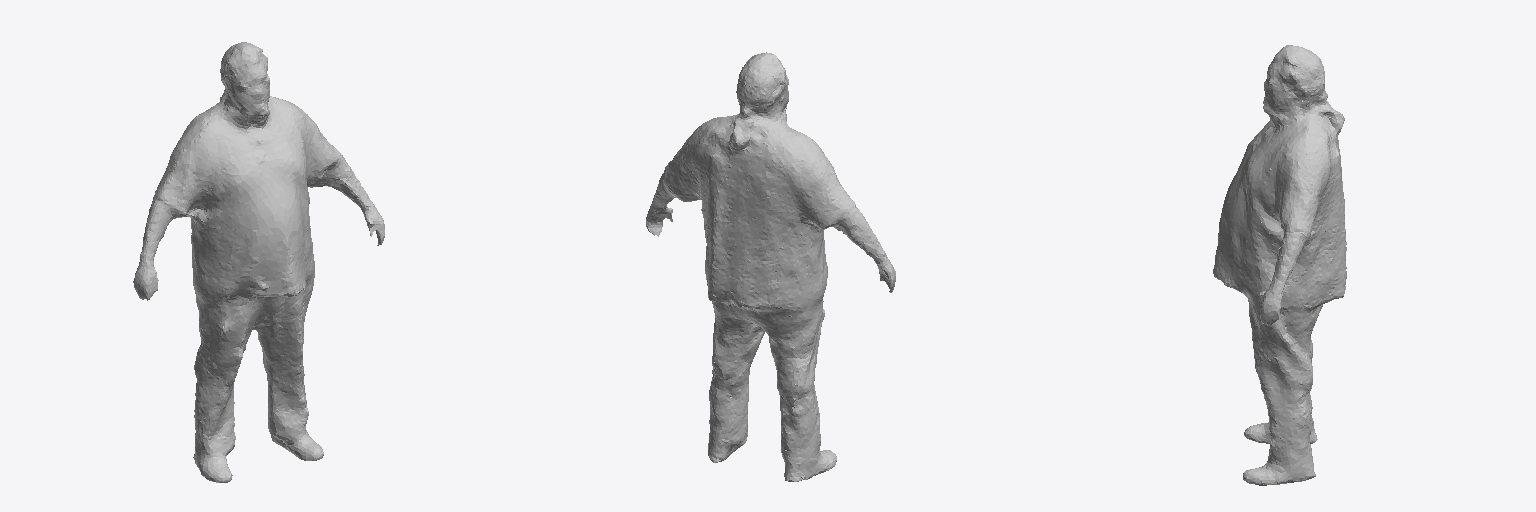
File: Chouchen.obj
3 views of the same model, side by side, from view 1: azimuth 30°, elevation 25°; view 2: azimuth 150°, elevation 25°; view 3: azimuth 270°, elevation 25° (orthographic).
Visible parts, largest first — view 1: Chouchen; view 2: Chouchen; view 3: Chouchen.
Part boxes in pixels (left/top/right/bottom): Chouchen: left=133, top=42, right=384, bottom=482; Chouchen: left=646, top=52, right=895, bottom=481; Chouchen: left=1213, top=45, right=1346, bottom=485.
Bounding box in the file's own units: 4.72 × 7.58 × 2.21.